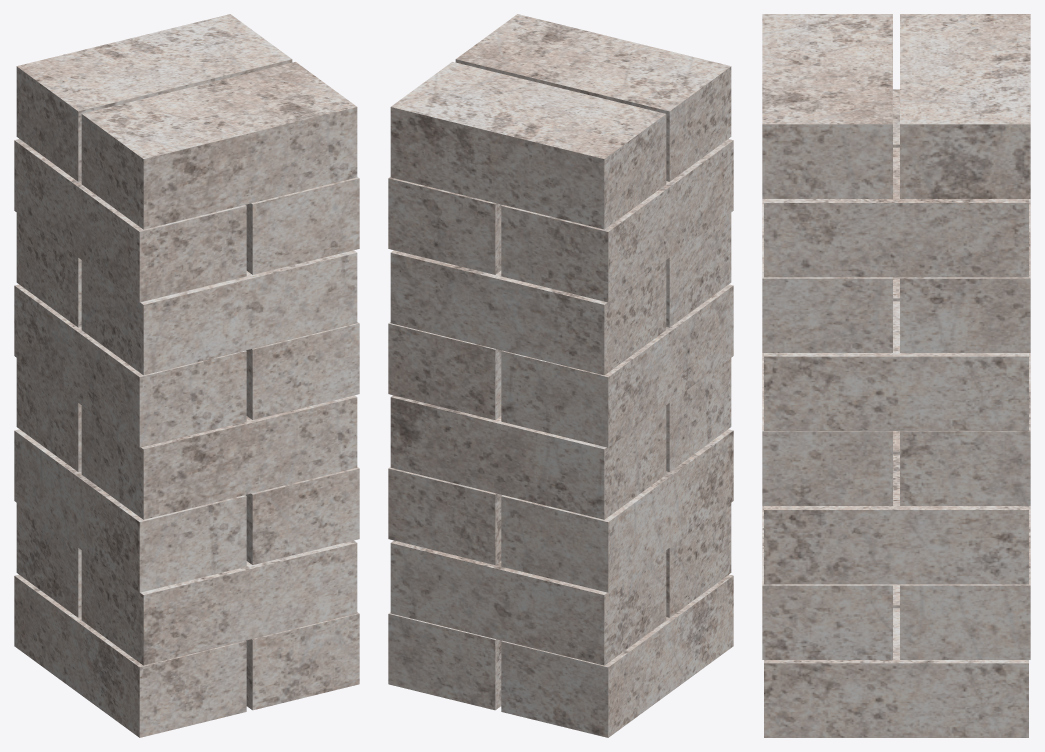
Rendered from NewCement.fbx.
The picture shows the model from 3 angles, left to right: view 1: azimuth 30°, elevation 25°; view 2: azimuth 150°, elevation 25°; view 3: azimuth 270°, elevation 25°; orthographic projection. The views are drawn at different scales.
Parts seen in each view (by area): view 1: pCube268; view 2: pCube268; view 3: pCube268.
Part boxes in pixels (<box>): pCube268: <box>14,14,359,737</box>; pCube268: <box>388,14,733,737</box>; pCube268: <box>762,14,1030,737</box>.
Bounding box in the file's own units: 1.3 × 3.28 × 1.3.
